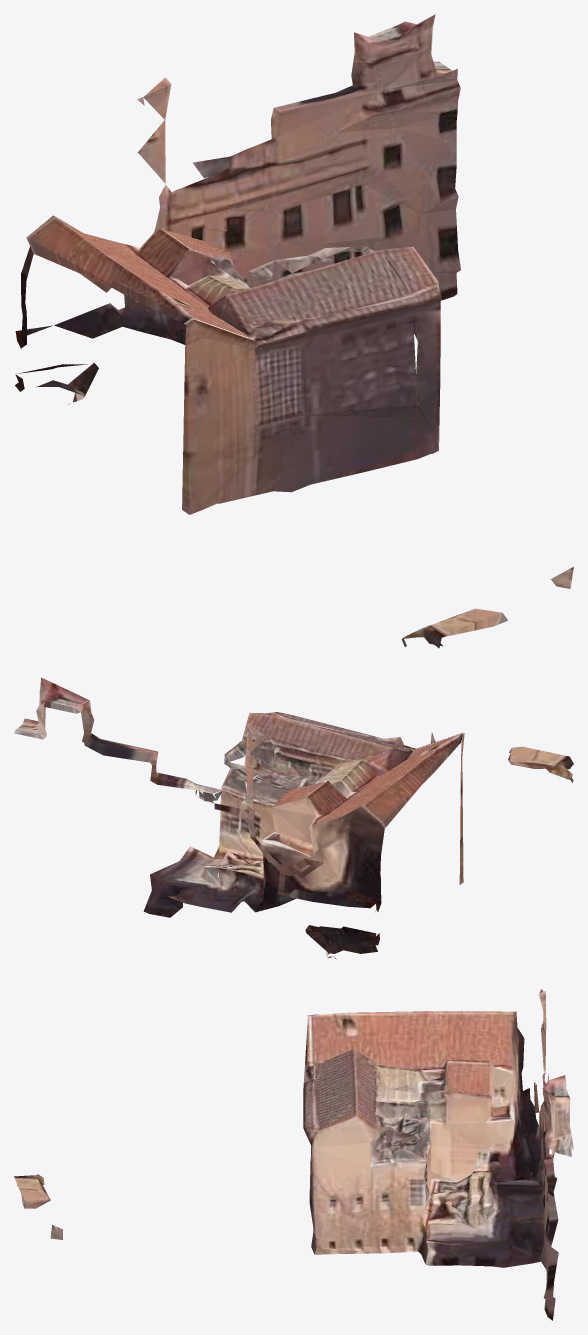
3 views of the same model, one above another, from view 1: azimuth 30°, elevation 25°; view 2: azimuth 150°, elevation 25°; view 3: azimuth 270°, elevation 25° (orthographic). The views are drawn at different scales.
Parts seen in each view (by area): view 1: Mesh_0; view 2: Mesh_0; view 3: Mesh_0.
Boxes of the visible parts, x1,y1,x2,y2 form: Mesh_0: [15, 14, 573, 648]; Mesh_0: [14, 677, 573, 959]; Mesh_0: [14, 989, 573, 1320].
Size of the model in its own units: 29.4 by 18.52 by 41.33.
1 material, 1 textured.
